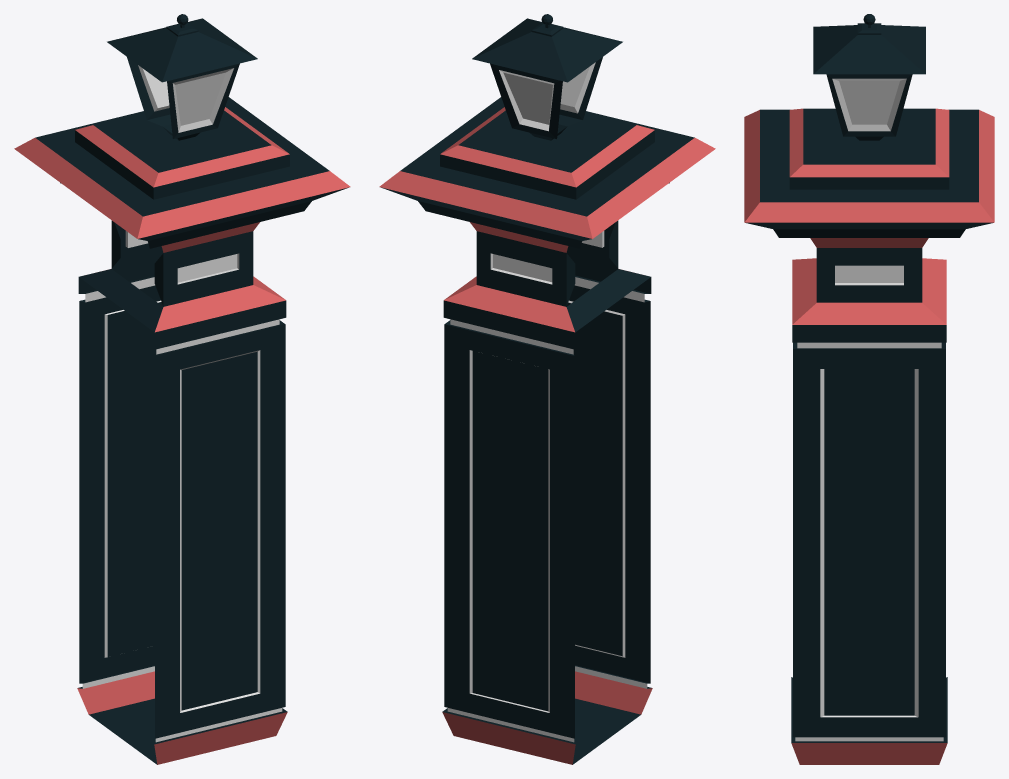
Rendered from city_pillar.fbx.
The picture shows the model from 3 angles, left to right: view 1: azimuth 30°, elevation 25°; view 2: azimuth 150°, elevation 25°; view 3: azimuth 270°, elevation 25°; orthographic projection.
Visible parts, largest first — view 1: Pillar; view 2: Pillar; view 3: Pillar.
Part boxes in pixels (x1,y1,x2,y2): Pillar: (14,14,350,764); Pillar: (379,14,715,764); Pillar: (744,14,994,764).
Bounding box in the file's own units: 119 × 378 × 119.
